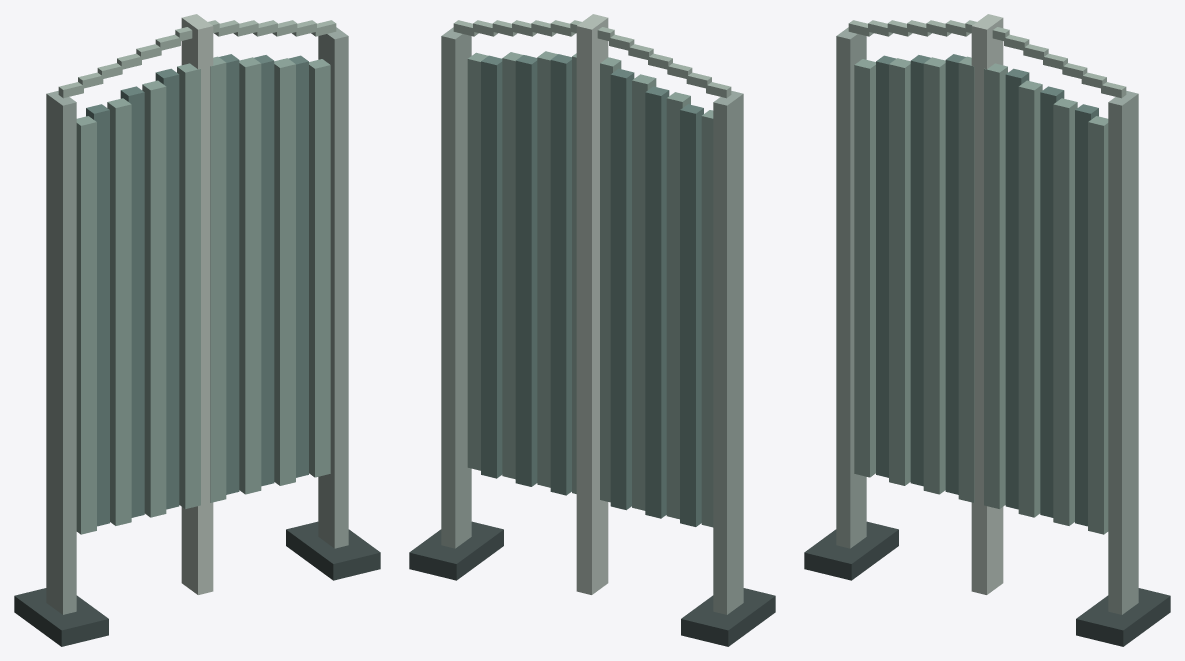
The model's file is CMU3DHospitalPrivacyScreen.glb.
3 renders of one model, left to right at view 1: azimuth 30°, elevation 25°; view 2: azimuth 150°, elevation 25°; view 3: azimuth 330°, elevation 25°, orthographic.
Parts seen in each view (by area): view 1: pleated hospital curtain (×14), screen outer post (×2), screen center post, screen caster foot (×2); view 2: pleated hospital curtain (×14), screen outer post (×2), screen center post, screen caster foot (×2); view 3: pleated hospital curtain (×14), screen outer post (×2), screen center post, screen caster foot (×2).
Boxes of the visible parts, bbox=[...] form: pleated hospital curtain (×14): bbox=[76, 54, 330, 534]; screen outer post (×2): bbox=[46, 27, 348, 614]; screen center post: bbox=[181, 14, 213, 594]; screen caster foot (×2): bbox=[14, 521, 380, 646]; pleated hospital curtain (×14): bbox=[467, 51, 713, 527]; screen outer post (×2): bbox=[441, 27, 743, 614]; screen center post: bbox=[576, 14, 608, 594]; screen caster foot (×2): bbox=[409, 521, 775, 646]; pleated hospital curtain (×14): bbox=[854, 54, 1108, 534]; screen outer post (×2): bbox=[836, 27, 1138, 614]; screen center post: bbox=[971, 14, 1003, 594]; screen caster foot (×2): bbox=[804, 521, 1170, 646].
Bounding box in the file's own units: 1.01 × 1.72 × 0.26.
